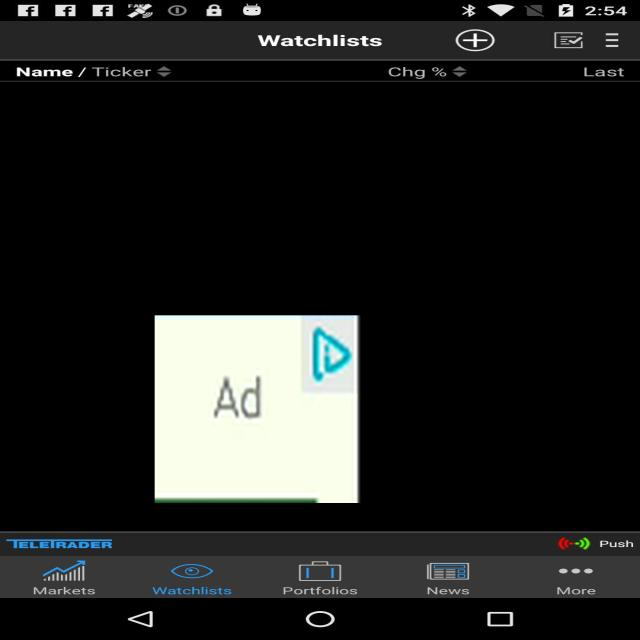sneaking: (155, 315, 361, 503)
